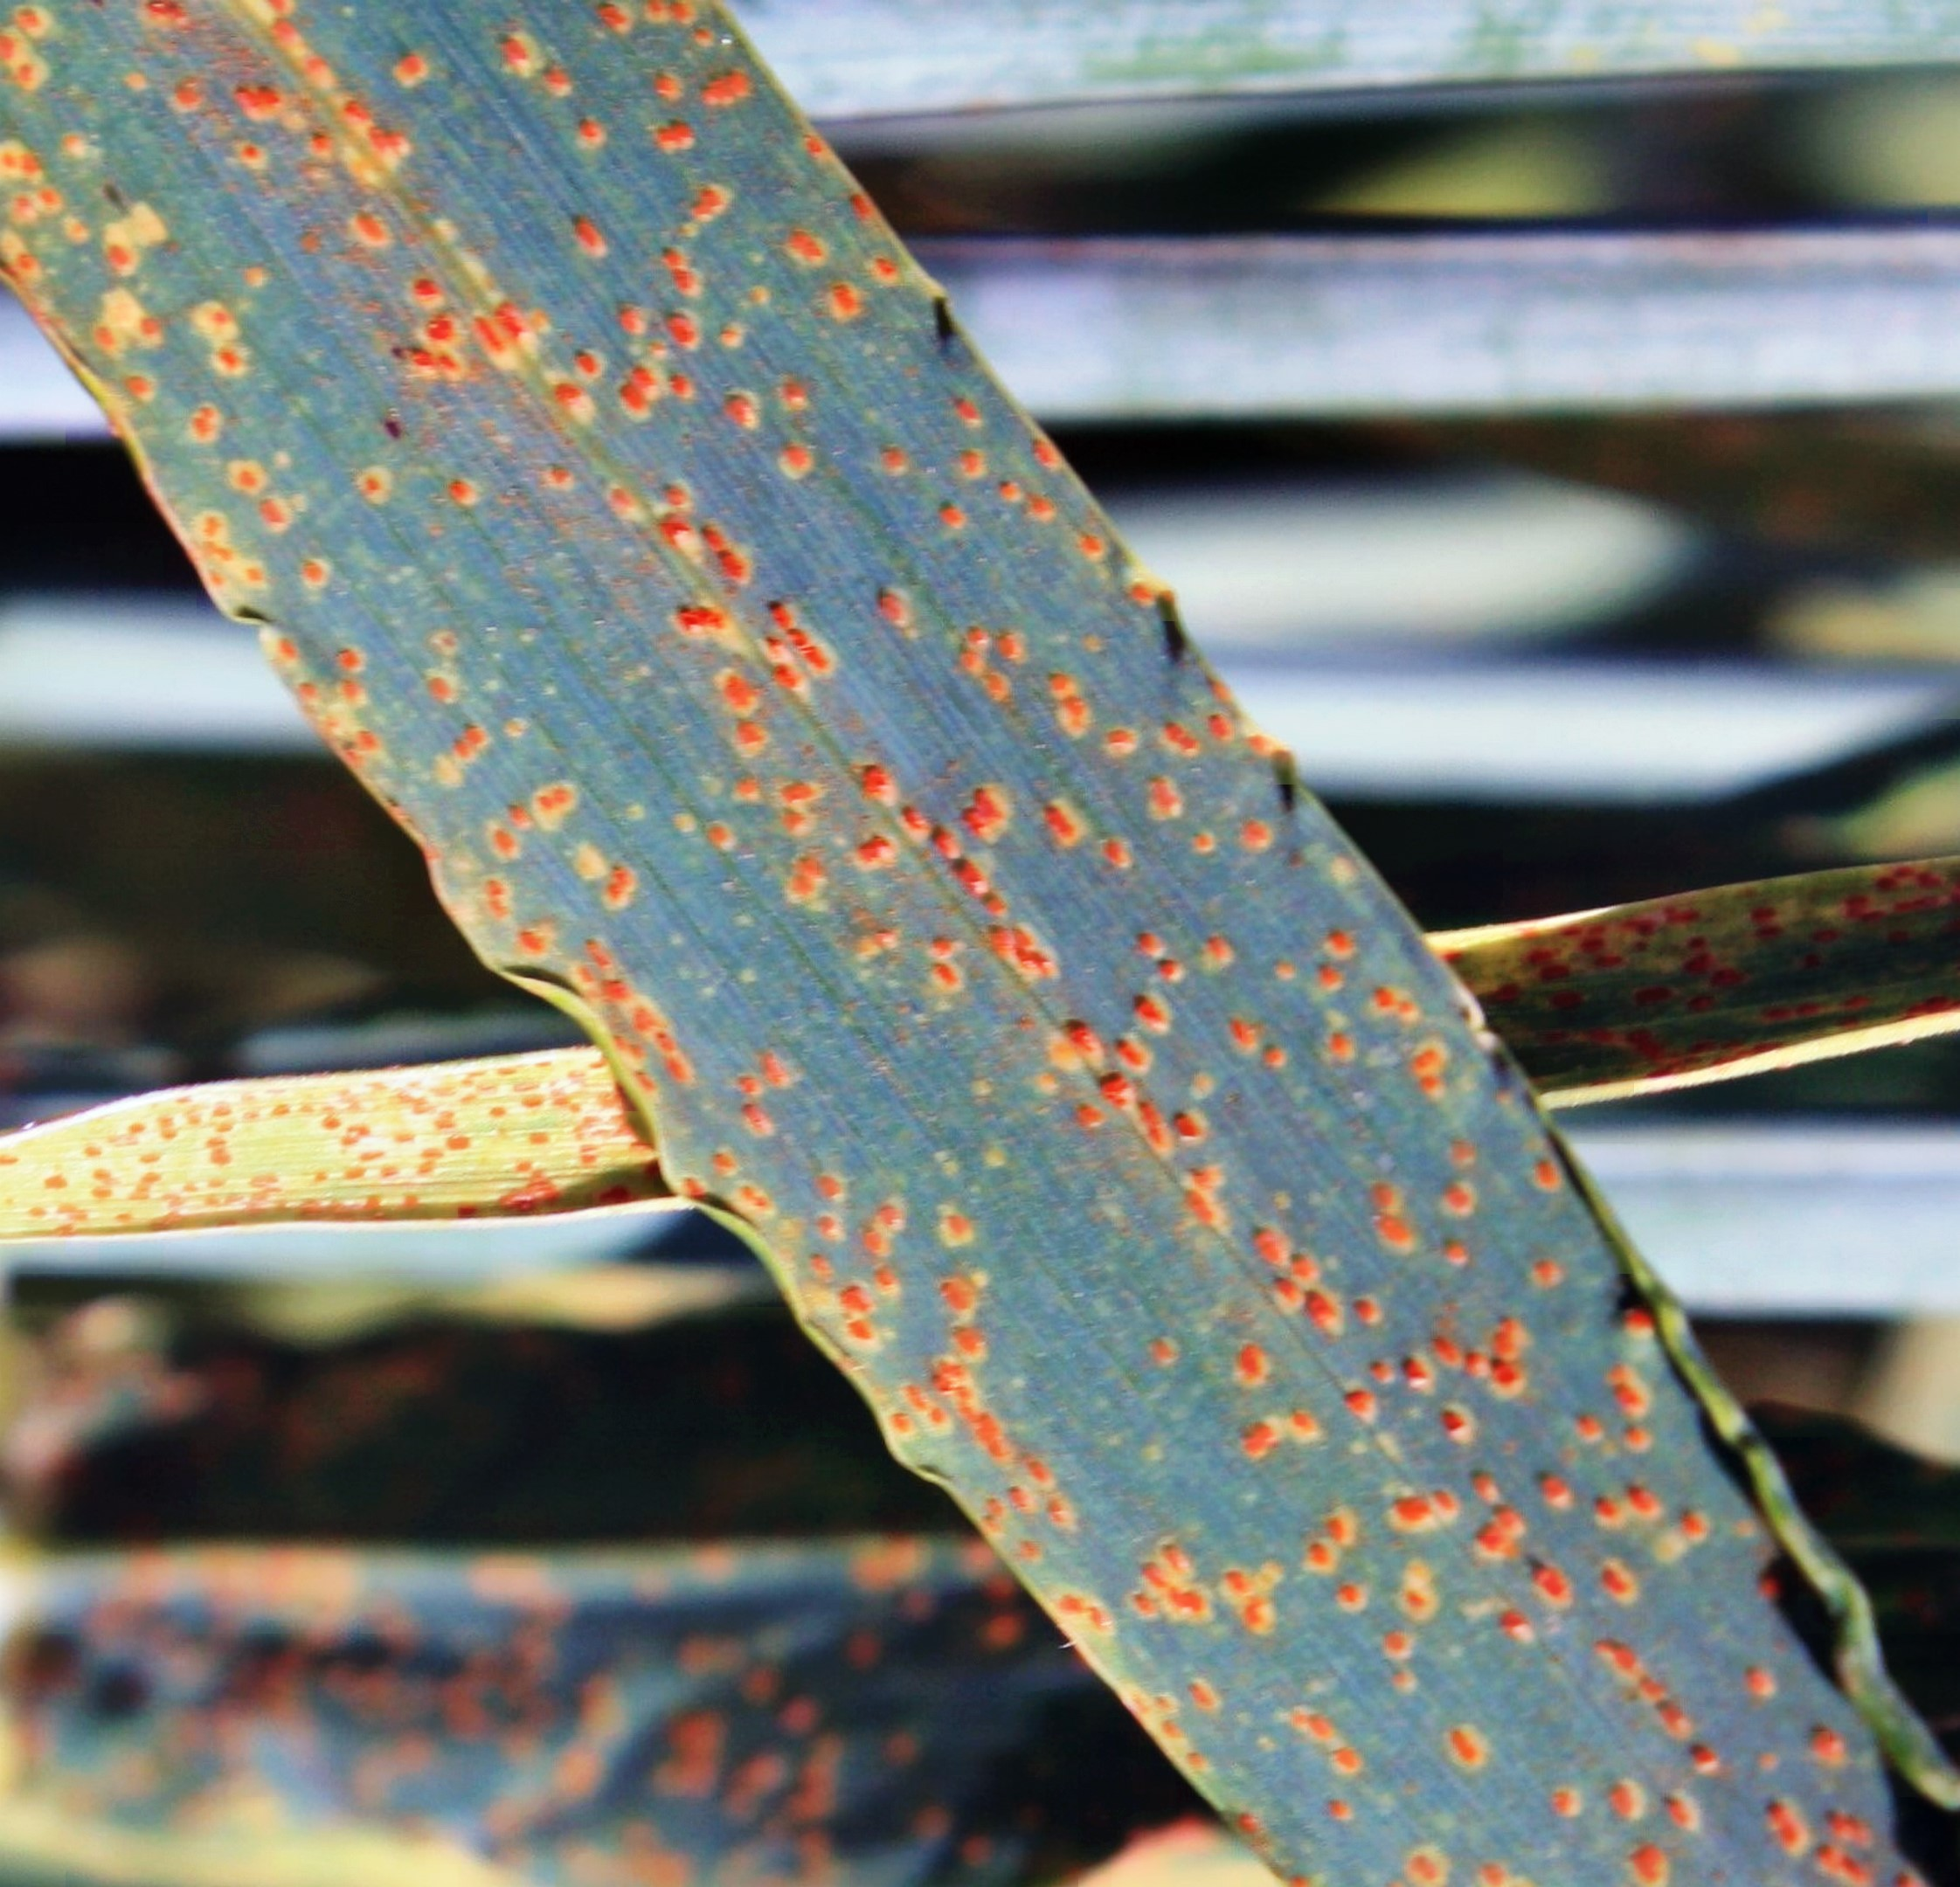Leaf Rust: (249, 252, 1773, 1756)
